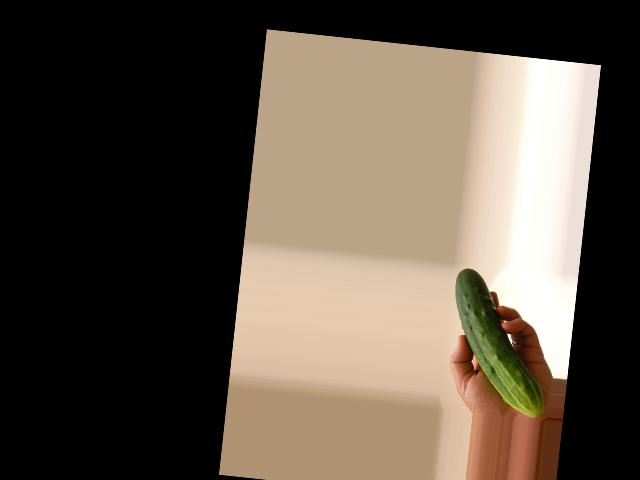cucumber: (443, 267, 557, 417)
